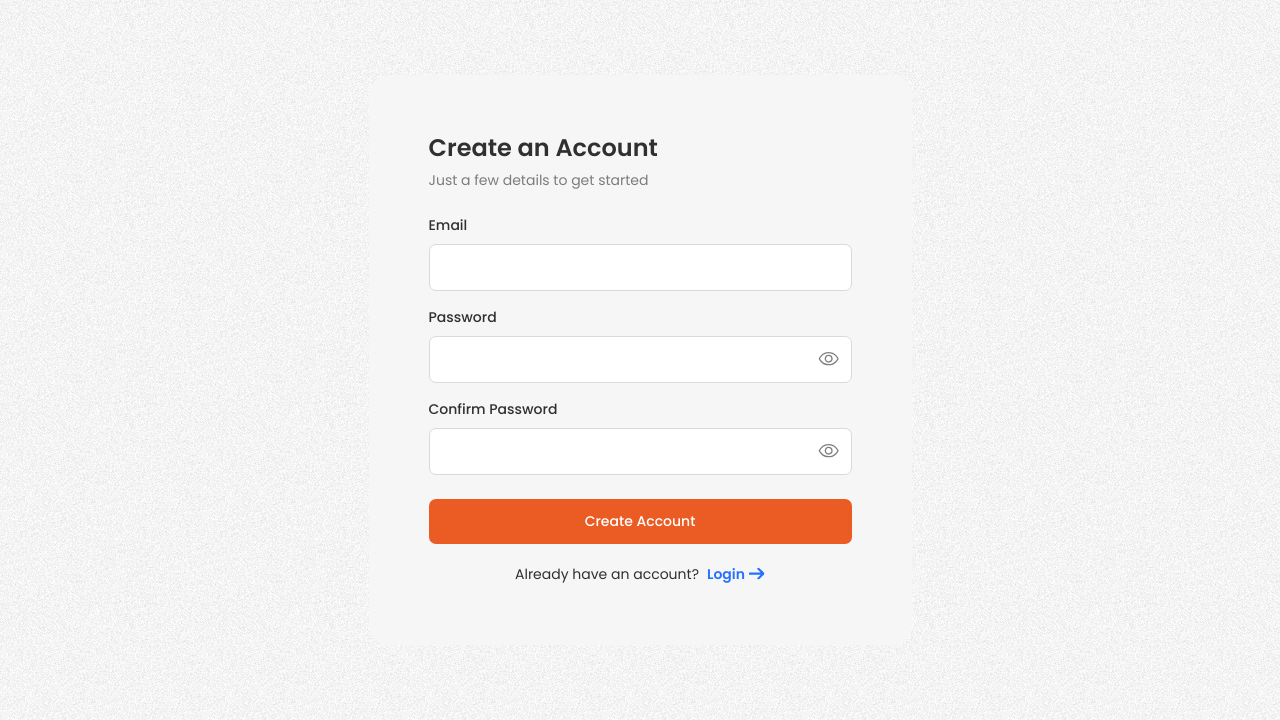
SignUp Component › handles signup API errors correctly
Fill out form correctly
Type "test@example.com" into the field labelled "Email" at point(640, 267), box [428,244,852,291]
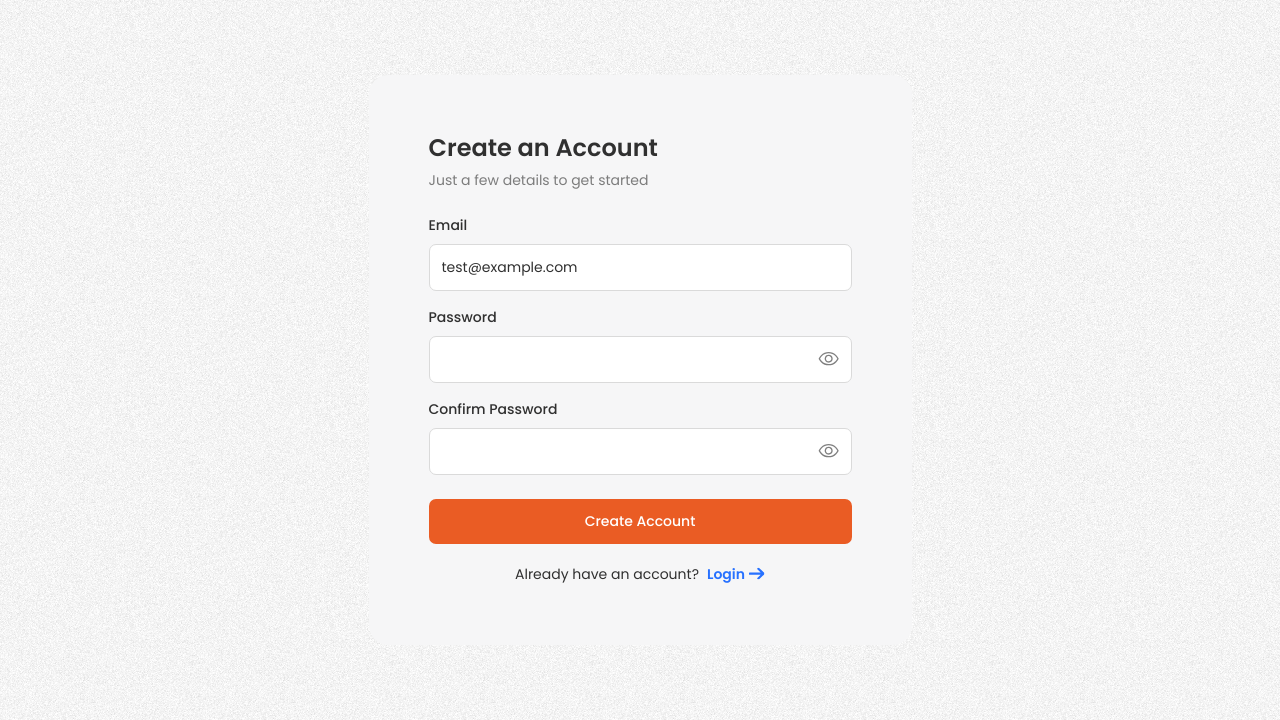
Type "validpassword" into the password field named "password" at point(640, 359), box [428,336,852,383]
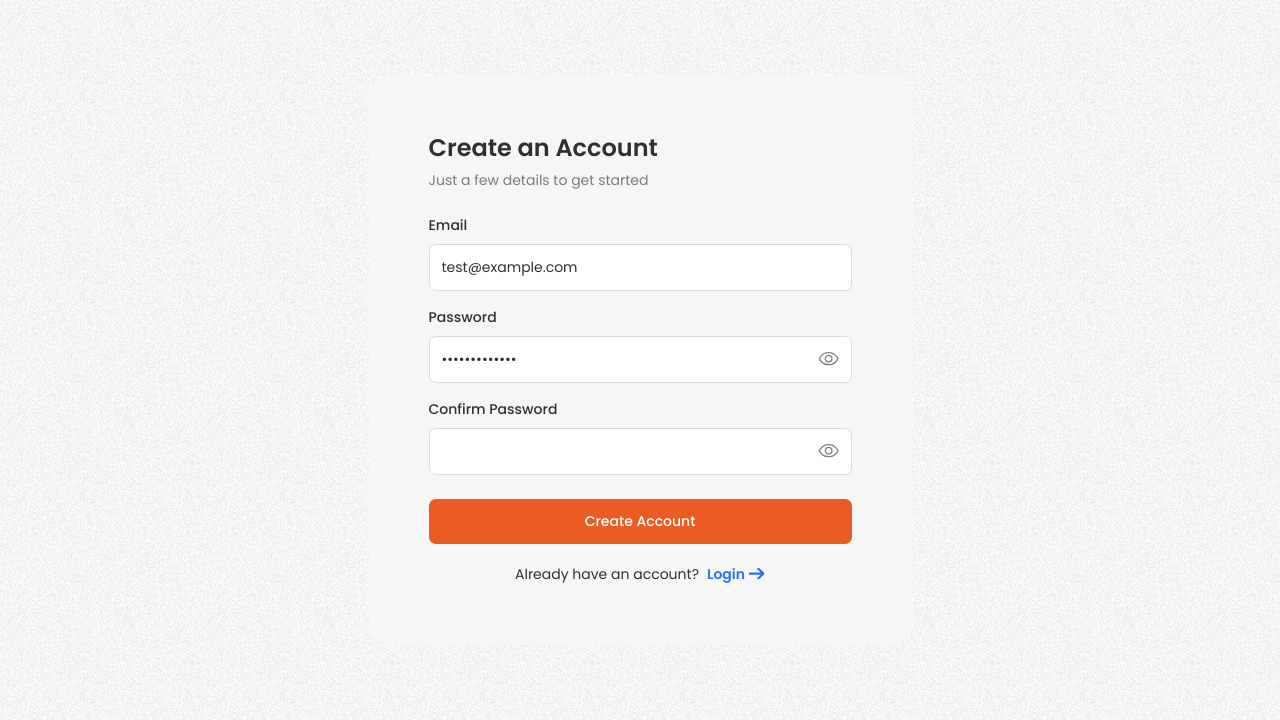
Type "validpassword" into the password field named "confirmPassword" at point(640, 451), box [428,428,852,475]
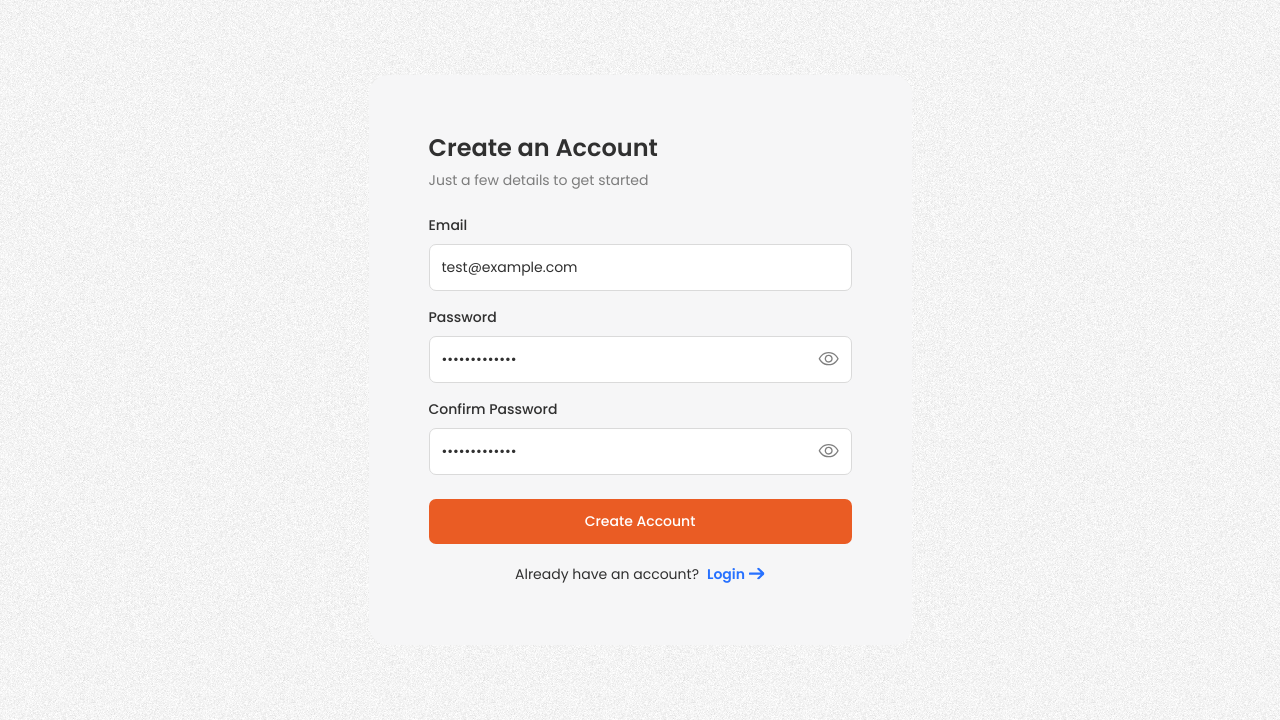
Submit the form
Click the submit button at point(640, 521), box [428,499,852,544]
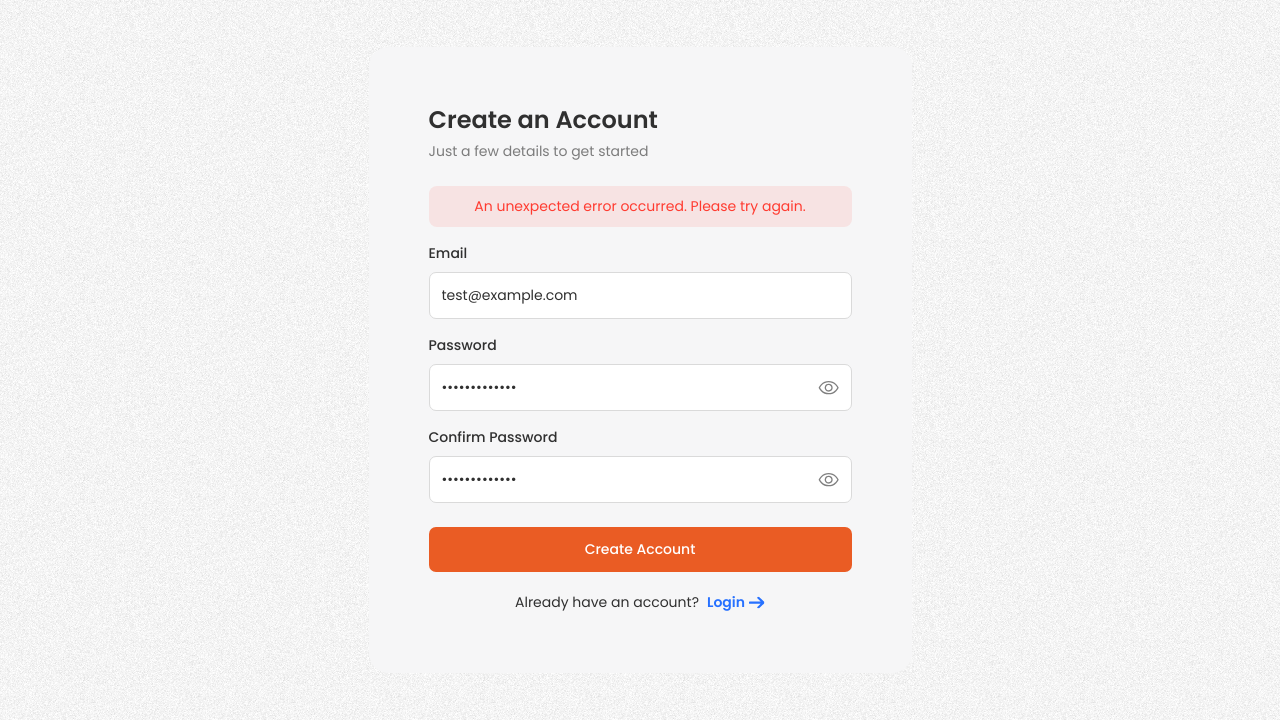
expect the text "An unexpected error occurred. Please try again." is shown: met, box [428,186,852,227]
